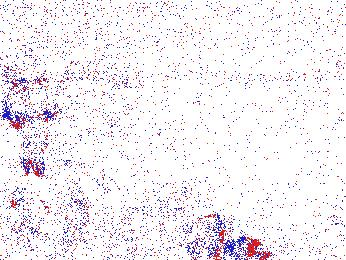flame jellyfish: (4, 80, 56, 176), (182, 213, 268, 260), (47, 188, 93, 244), (5, 187, 47, 233)
